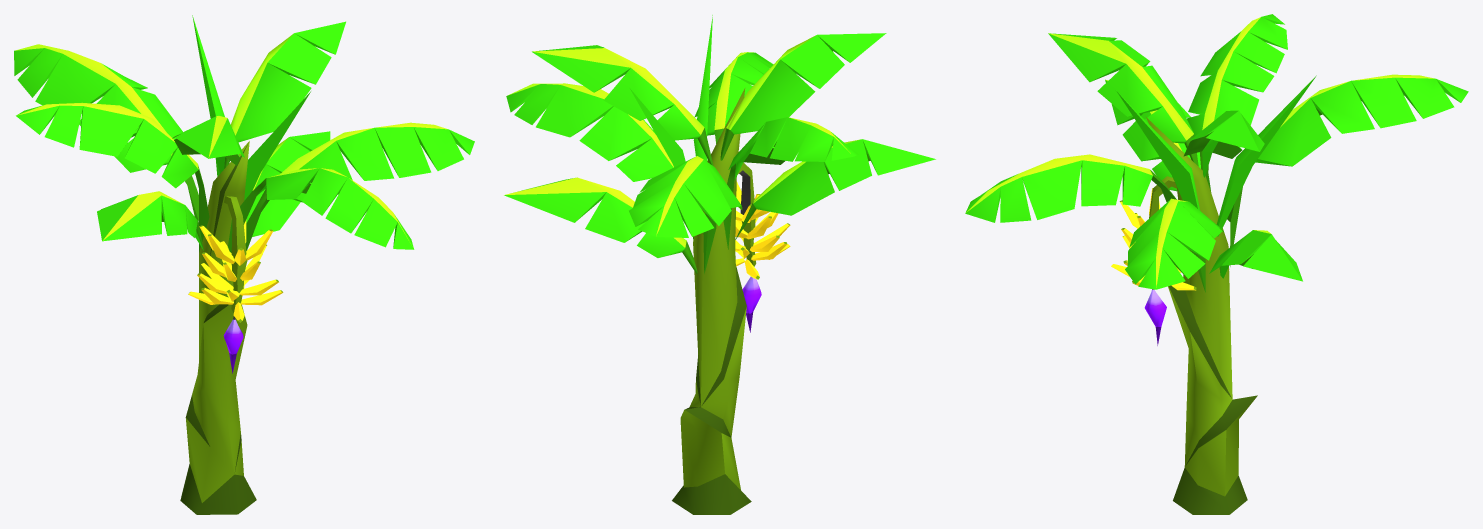
The model's file is cocobay_env_platanera.gltf.
3 renders of one model, left to right at view 1: azimuth 30°, elevation 25°; view 2: azimuth 150°, elevation 25°; view 3: azimuth 270°, elevation 25°, orthographic.
Visible parts, largest first — view 1: cocobay_env_platanera_glb; view 2: cocobay_env_platanera_glb; view 3: cocobay_env_platanera_glb.
Boxes of the visible parts, <box> form: cocobay_env_platanera_glb: <box>14,15,474,514</box>; cocobay_env_platanera_glb: <box>504,15,935,514</box>; cocobay_env_platanera_glb: <box>965,14,1468,514</box>.
Size of what is drawn, in the model's own units: 4.49 by 4.72 by 4.9.
1 material, 1 textured.
